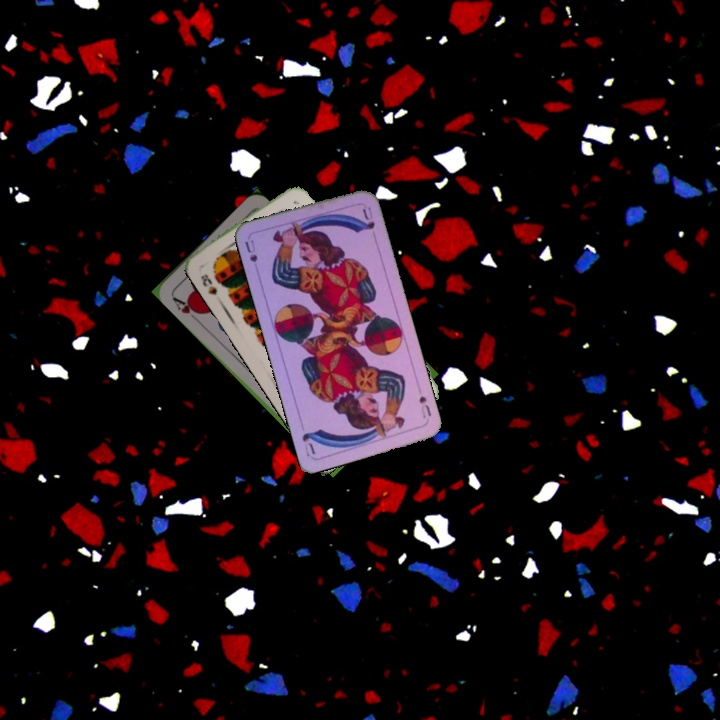HA: (168, 291, 204, 323)
S8: (197, 270, 220, 298)
SU: (241, 236, 262, 275), (414, 384, 434, 421)
